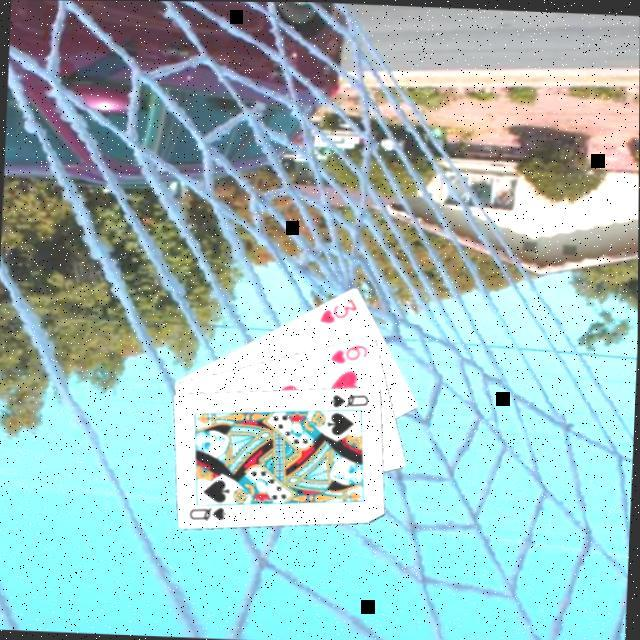3H: (318, 295, 362, 328)
6H: (329, 340, 373, 367)
QS: (329, 390, 374, 412), (187, 504, 231, 525)
